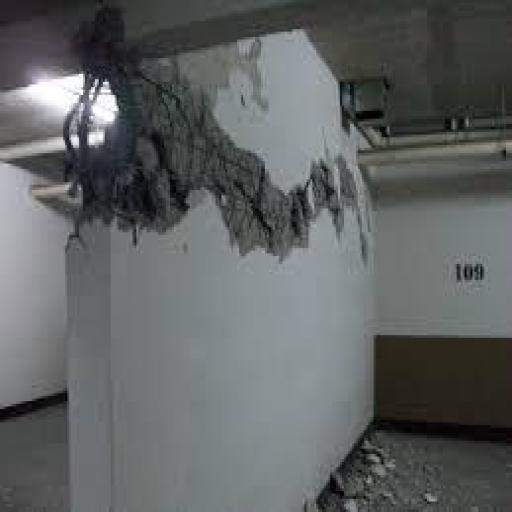spalling: (70, 72, 358, 252)
